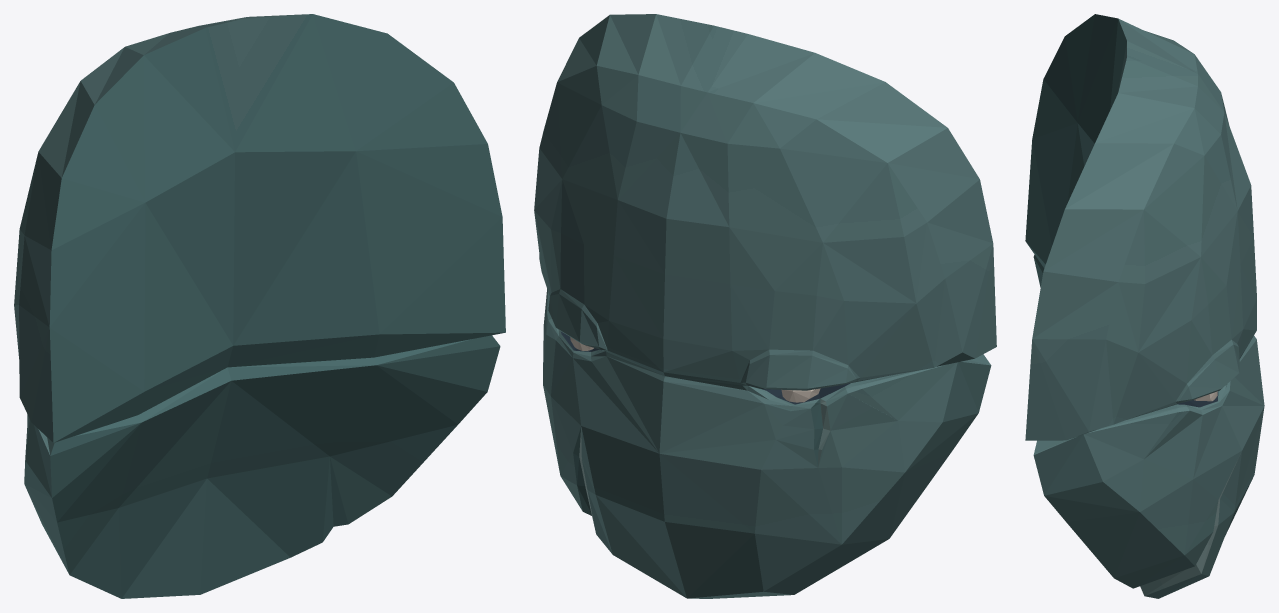
The model's file is CharSkyKid_Mask_AP27NightElder.glb.
3 views of the same model, side by side, from view 1: azimuth 30°, elevation 25°; view 2: azimuth 150°, elevation 25°; view 3: azimuth 270°, elevation 25° (orthographic). The views are drawn at different scales.
Parts seen in each view (by area): view 1: CharSkyKid_Mask_AP27NightElder; view 2: CharSkyKid_Mask_AP27NightElder; view 3: CharSkyKid_Mask_AP27NightElder.
Part boxes in pixels (x1,y1,x2,y2): CharSkyKid_Mask_AP27NightElder: (14,14,505,598); CharSkyKid_Mask_AP27NightElder: (534,14,996,598); CharSkyKid_Mask_AP27NightElder: (1025,14,1264,598).
Size of the model in its own units: 2.11 by 2.61 by 1.07.
Materials: 1 (1 with a texture image).
